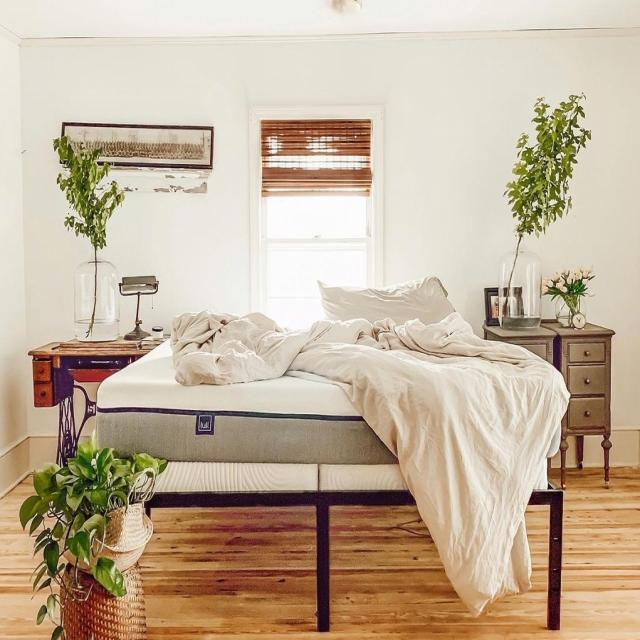bed: (93, 274, 568, 532)
